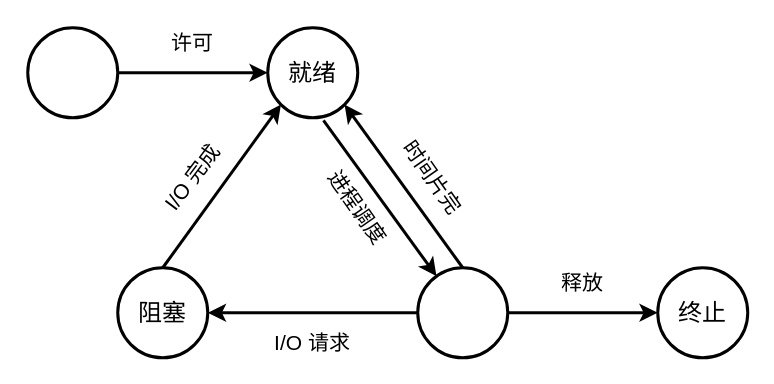
Some shapes in this 774 by 384 pixel diagram are drawn without their labels. Here are the shapes that lost their labels. From the top down, the box of each, then its label:
(26, 26, 118, 118): 创建
(416, 266, 508, 358): 执行
